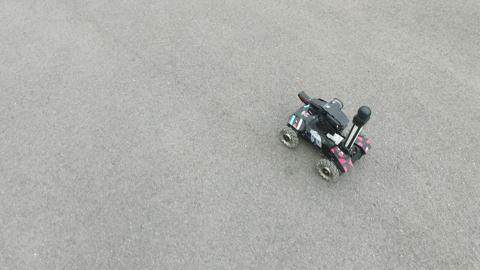chariot: (279, 89, 372, 182)
